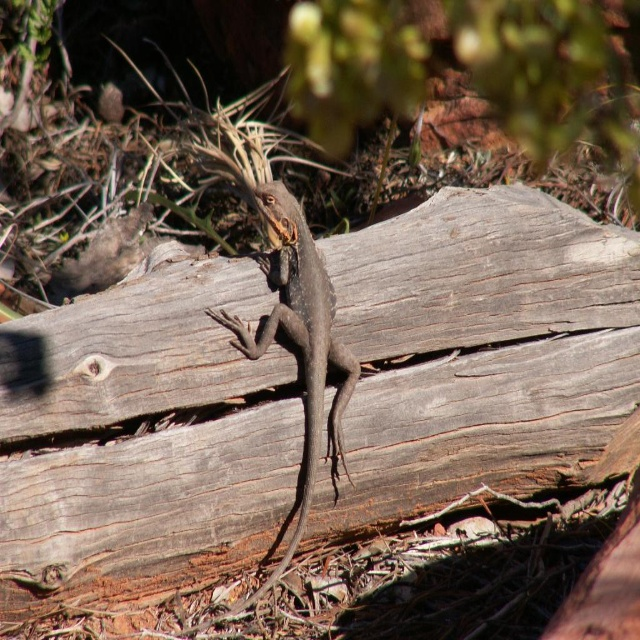Lizard: (152, 155, 412, 575)
